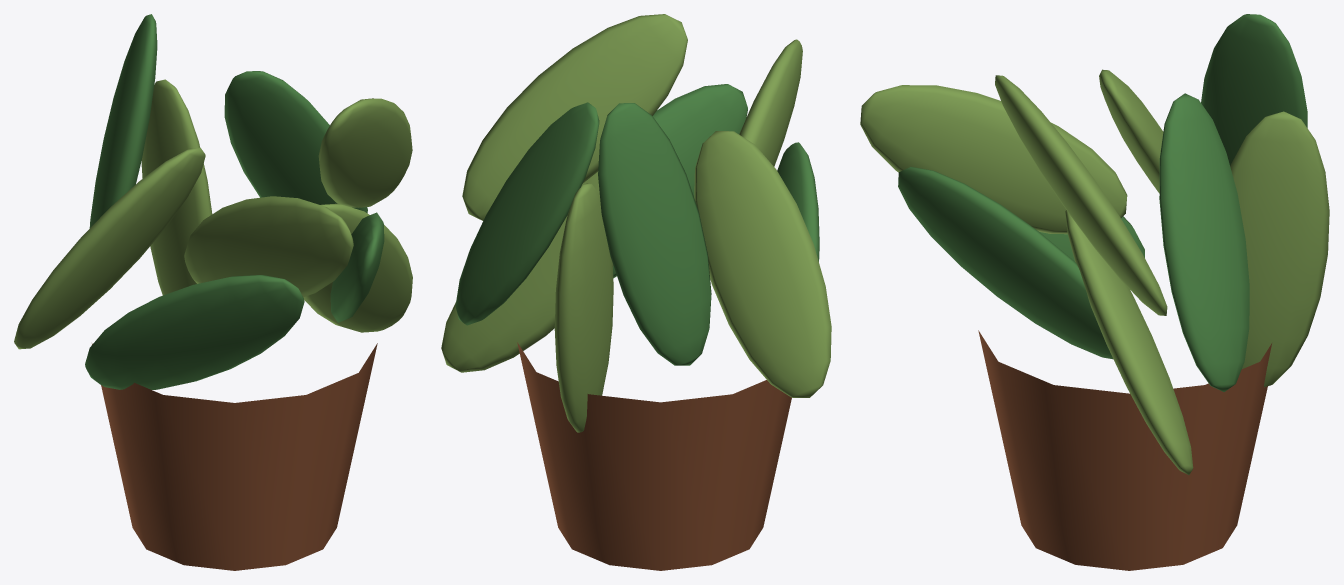
Rendered from herb.glb.
The picture shows the model from 3 angles, left to right: view 1: azimuth 30°, elevation 25°; view 2: azimuth 150°, elevation 25°; view 3: azimuth 270°, elevation 25°; orthographic projection. The views are drawn at different scales.
Bounding box in the file's own units: 0.4379 × 0.511 × 0.4349.
